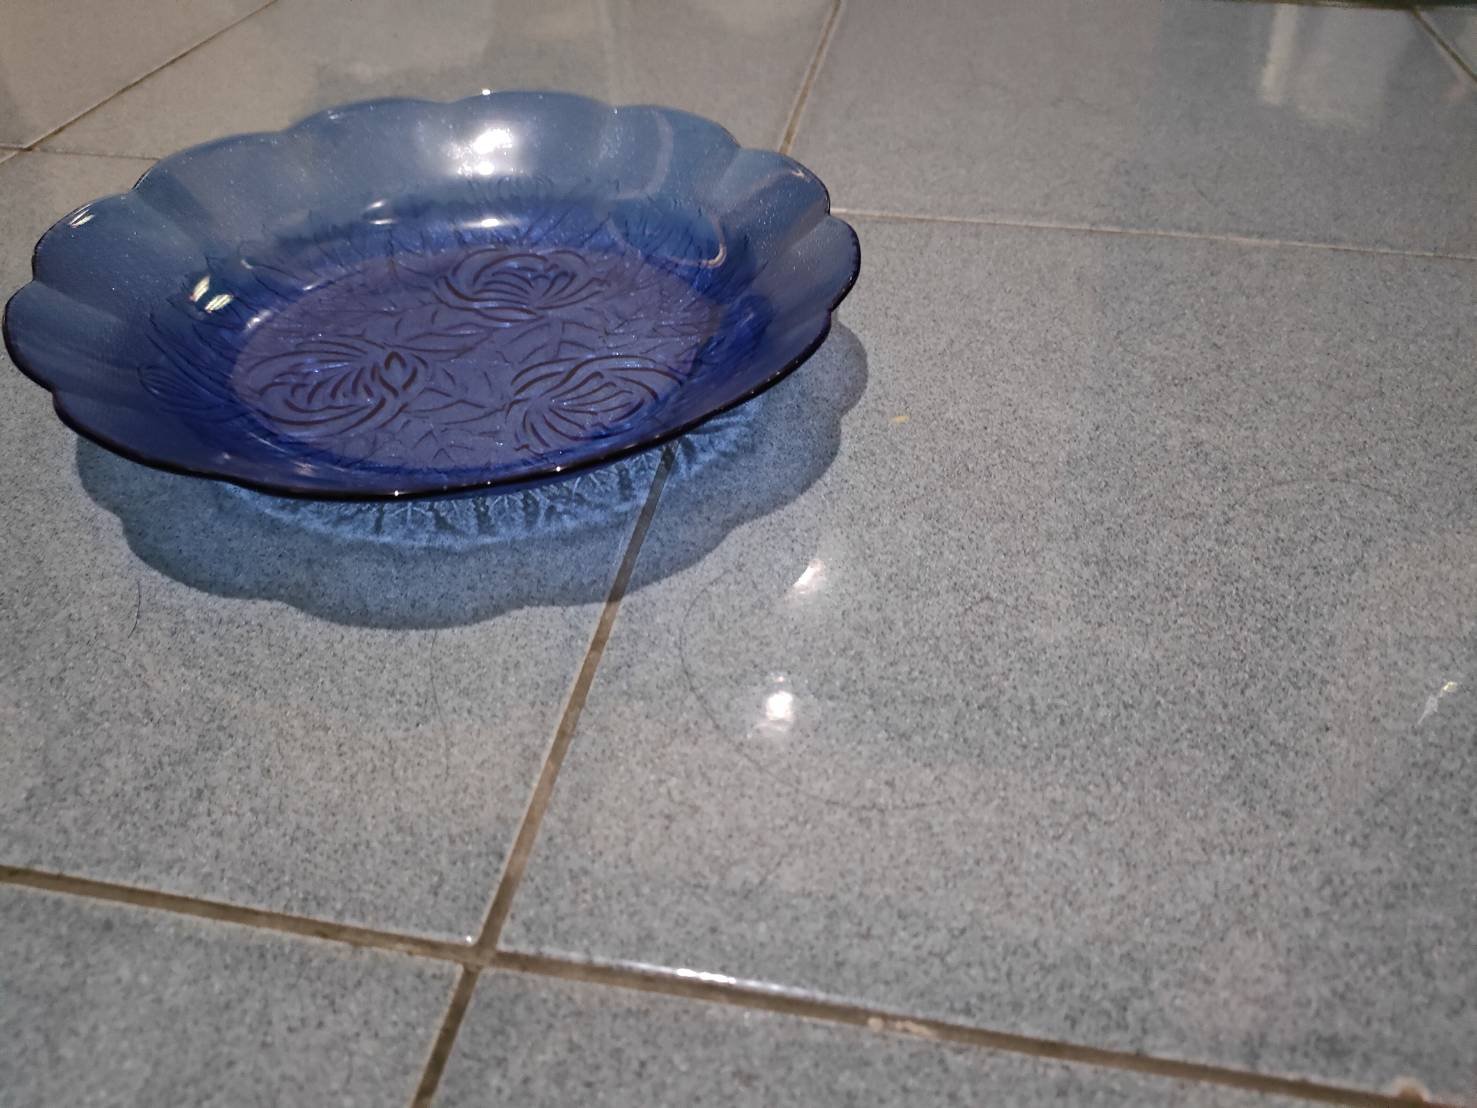piring: (5, 88, 862, 520)
